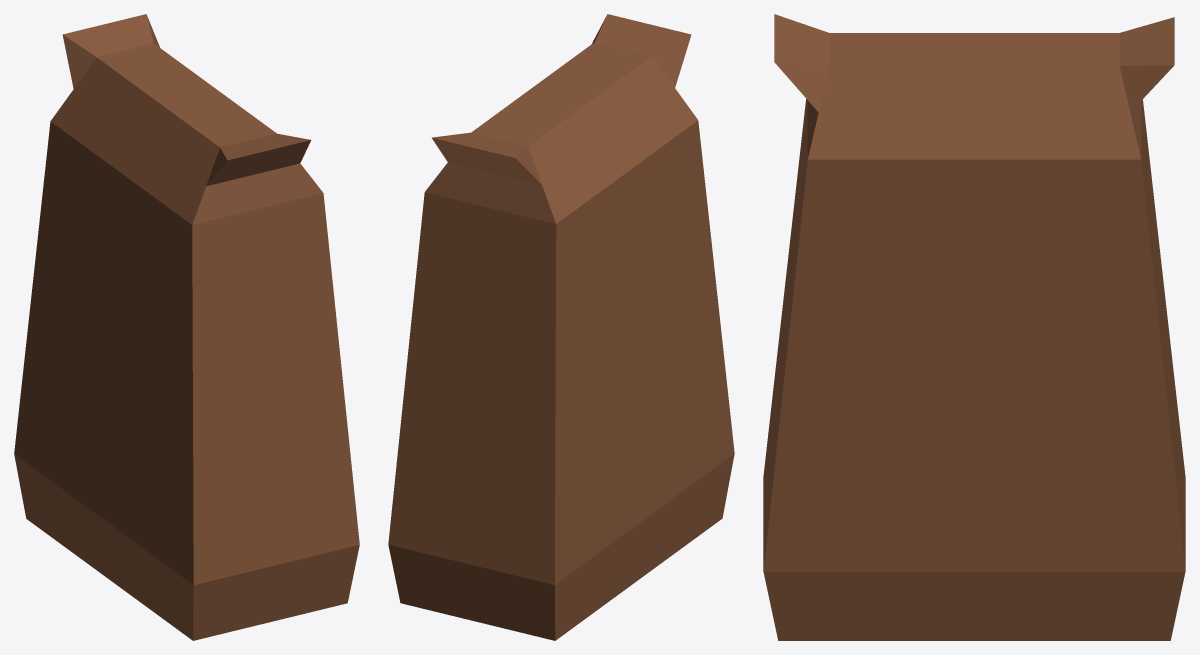
File: bag.glb
3 views of the same model, side by side, from view 1: azimuth 30°, elevation 25°; view 2: azimuth 150°, elevation 25°; view 3: azimuth 270°, elevation 25° (orthographic). The views are drawn at different scales.
Parts seen in each view (by area): view 1: bag; view 2: bag; view 3: bag.
Part boxes in pixels (x1,y1,x2,y2): bag: (14, 14, 359, 640); bag: (388, 14, 734, 640); bag: (763, 14, 1185, 640).
Bounding box in the file's own units: 0.088 × 0.2399 × 0.1647.
